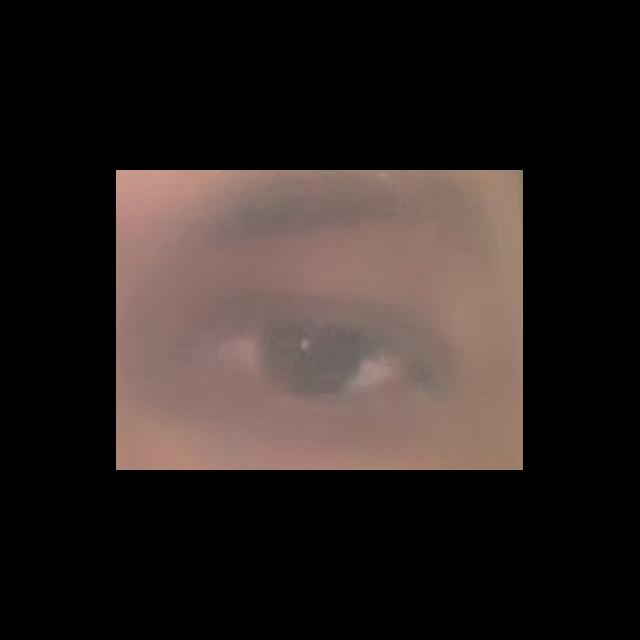eye: (212, 324, 399, 396)
iris: (264, 332, 364, 390)
